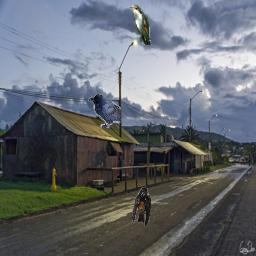Crow: (88, 94, 121, 128)
Cuckoo: (130, 5, 151, 45)
Swallow: (132, 187, 151, 227)
